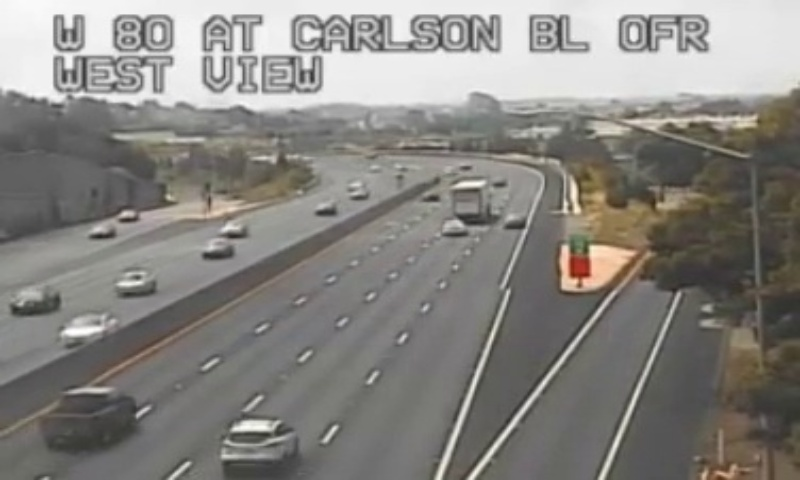car: (40, 387, 134, 445), (219, 418, 295, 461)
truck: (450, 179, 489, 221)
